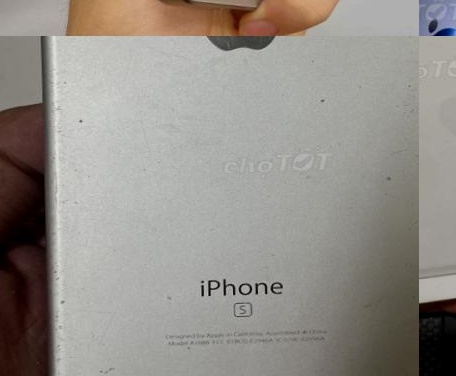scratch: (180, 36, 310, 70)
